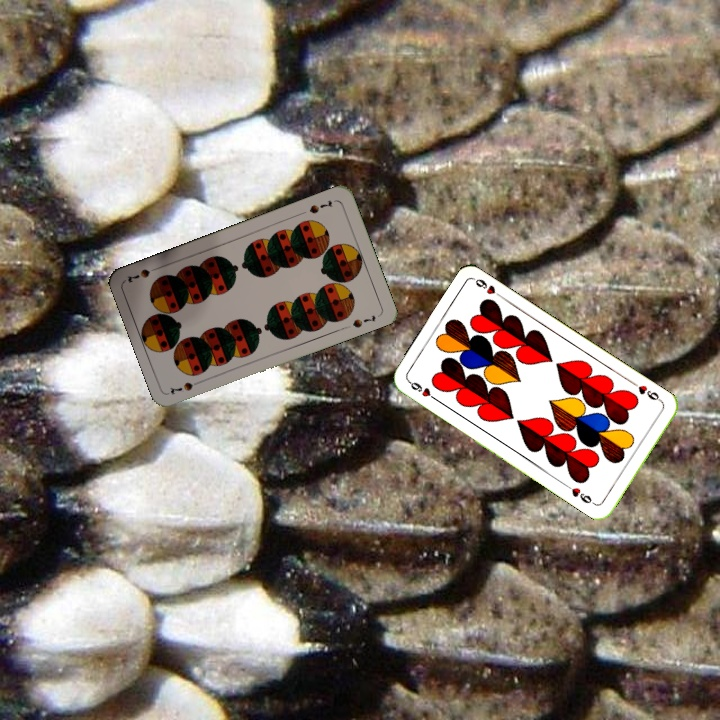H9: (404, 377, 441, 404), (629, 378, 665, 405)
S7: (166, 376, 205, 397), (305, 196, 335, 216)
